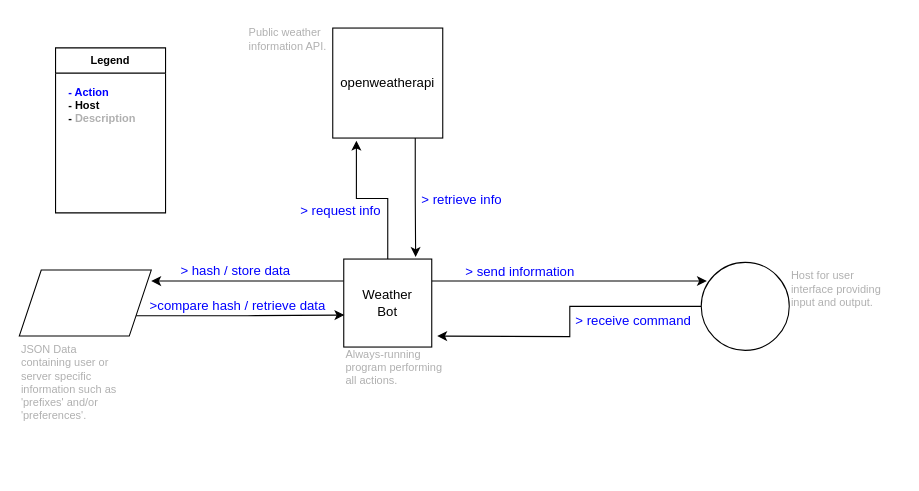
Image size: 919x491. Some labels were removed from this diagram. Each missing label, with the centre of its shape:
"Discord Server" belongs at point 744,305.
"Text Document / Server" belongs at point 84,302.
